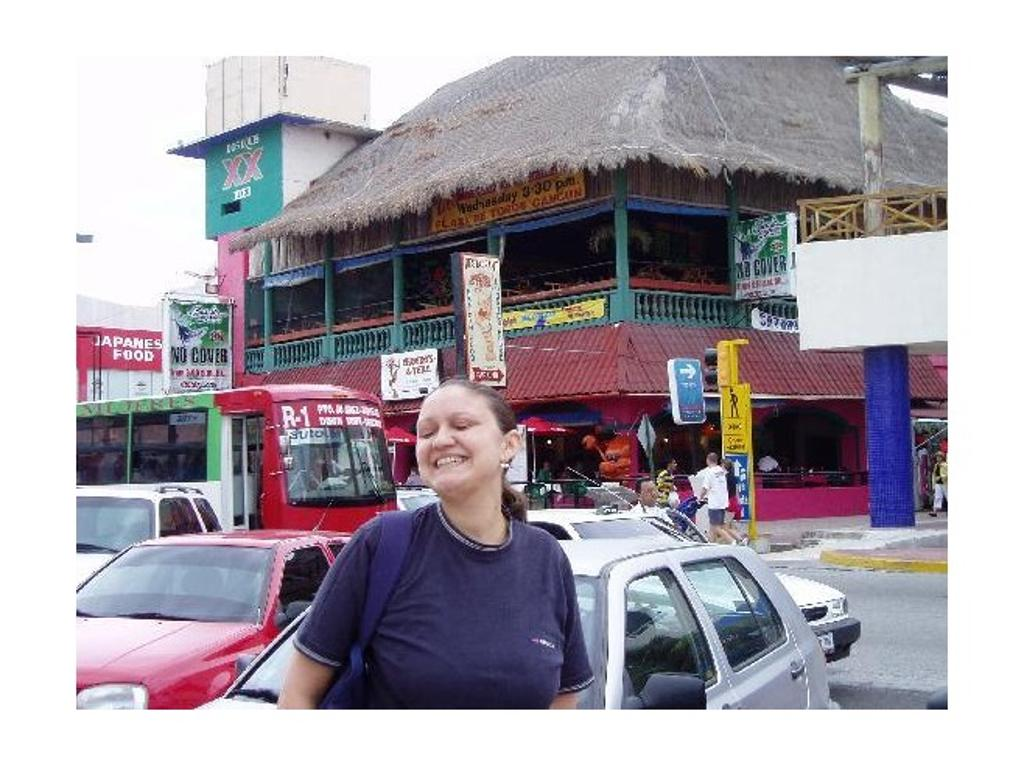face: (414, 384, 502, 498)
